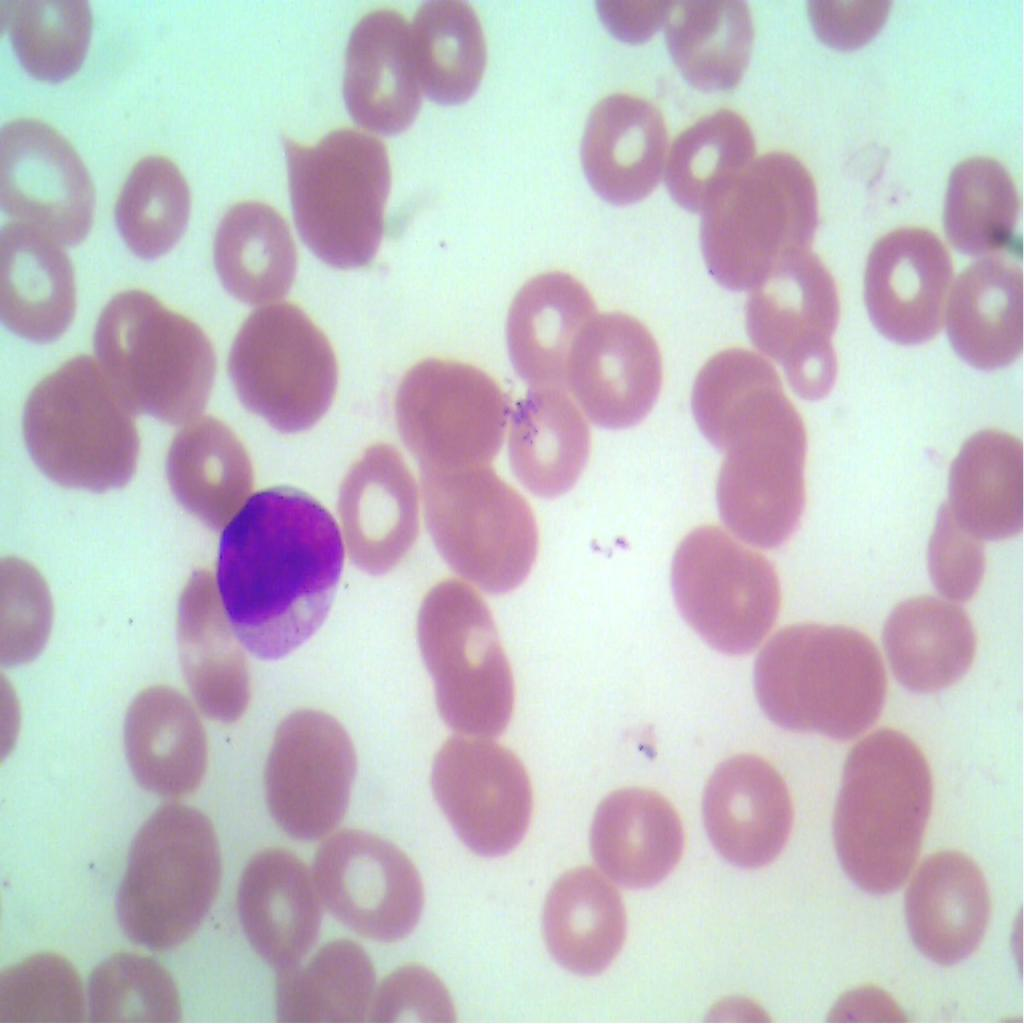Eritrosit: (6, 357, 146, 495), (220, 292, 346, 438), (669, 522, 790, 666), (282, 124, 395, 268), (434, 460, 548, 602), (426, 725, 540, 864), (108, 801, 222, 938), (260, 701, 358, 850), (304, 820, 434, 932), (331, 418, 419, 575), (859, 218, 959, 348), (499, 264, 602, 388), (581, 774, 696, 884), (736, 238, 836, 361), (175, 564, 251, 724), (569, 307, 666, 432), (0, 118, 96, 244), (701, 748, 799, 871), (506, 378, 594, 511), (406, 354, 508, 468), (0, 212, 86, 347), (338, 0, 421, 138), (571, 92, 669, 208), (397, 0, 492, 117), (939, 134, 1023, 266), (103, 150, 196, 269), (911, 848, 998, 975), (804, 618, 893, 740), (739, 141, 824, 268), (882, 584, 979, 694), (109, 684, 211, 788), (664, 98, 751, 219), (162, 410, 254, 524), (936, 252, 1023, 372), (131, 310, 222, 424), (538, 855, 624, 975), (231, 845, 319, 962), (203, 198, 295, 308), (89, 290, 171, 411), (833, 785, 919, 900), (714, 454, 812, 552), (700, 169, 778, 291), (752, 602, 826, 728), (283, 925, 378, 1023), (841, 730, 933, 828), (922, 489, 995, 612), (435, 635, 523, 737), (663, 0, 754, 98), (946, 431, 1024, 545), (414, 574, 492, 685), (686, 344, 774, 442), (6, 0, 92, 89), (726, 385, 802, 482)
Limfoblast: (208, 474, 346, 664)
